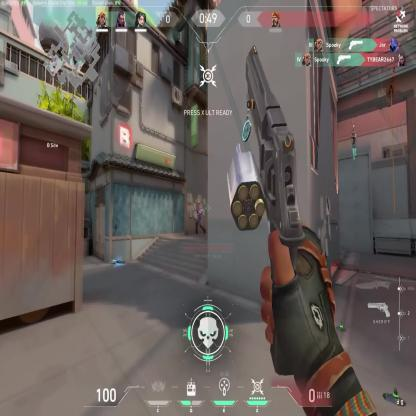enemy: (195, 202, 205, 235)
enemy_head: (198, 202, 200, 210)
